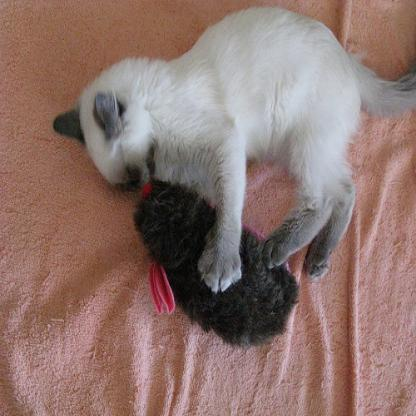cat: (53, 10, 415, 288)
